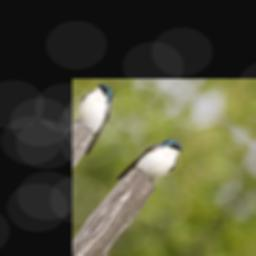Swallow: (115, 123, 191, 206)
